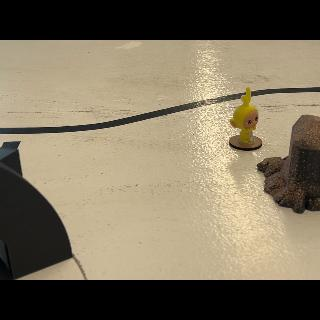teletubby: (230, 87, 258, 143)
